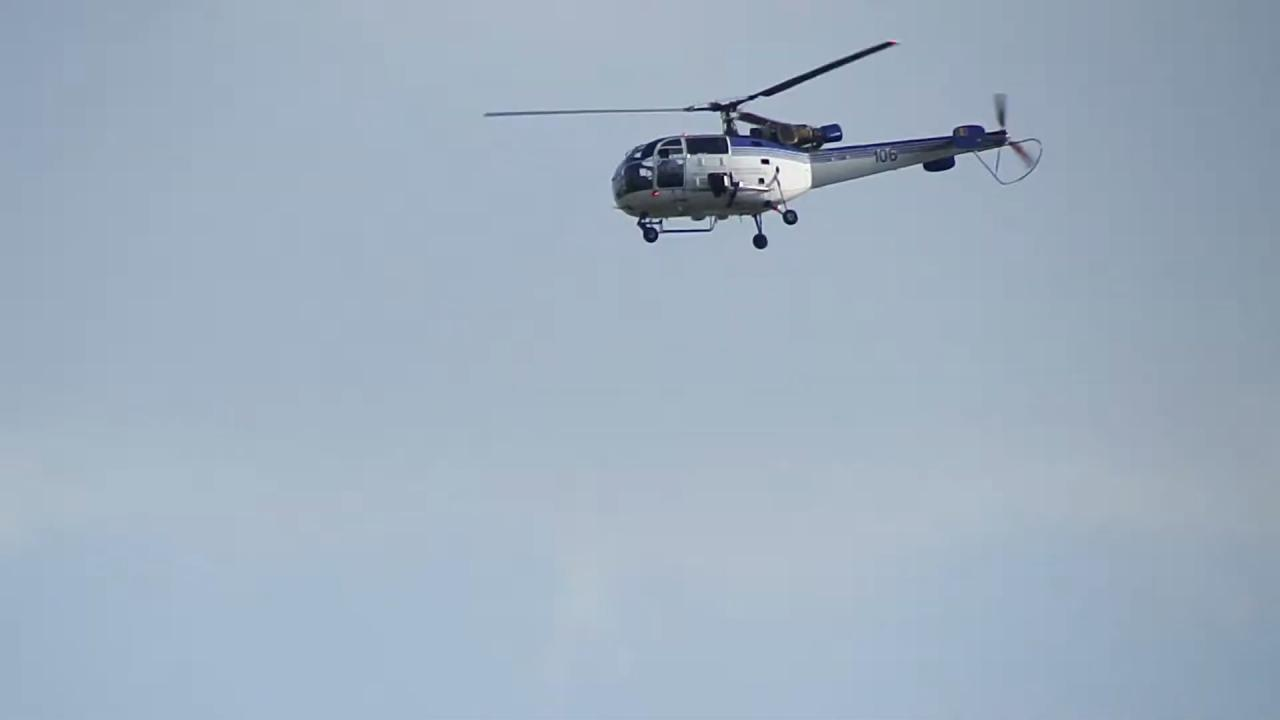Helicopter: (473, 14, 1055, 288)
